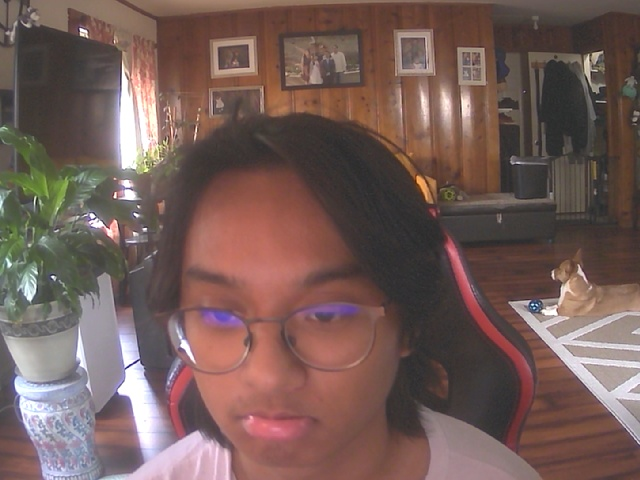sad: (151, 135, 423, 468)
